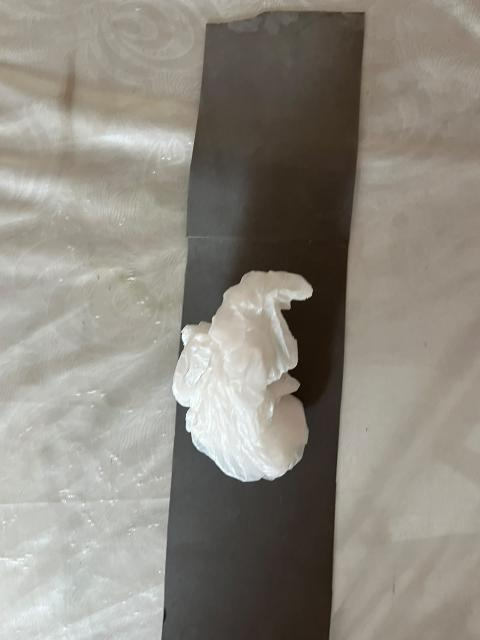LDPE: (149, 241, 333, 512)
